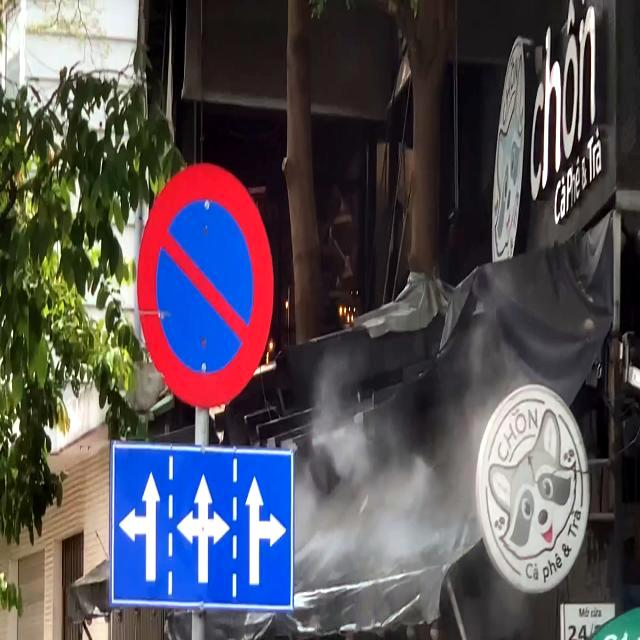Cam do xe: (136, 160, 275, 411)
